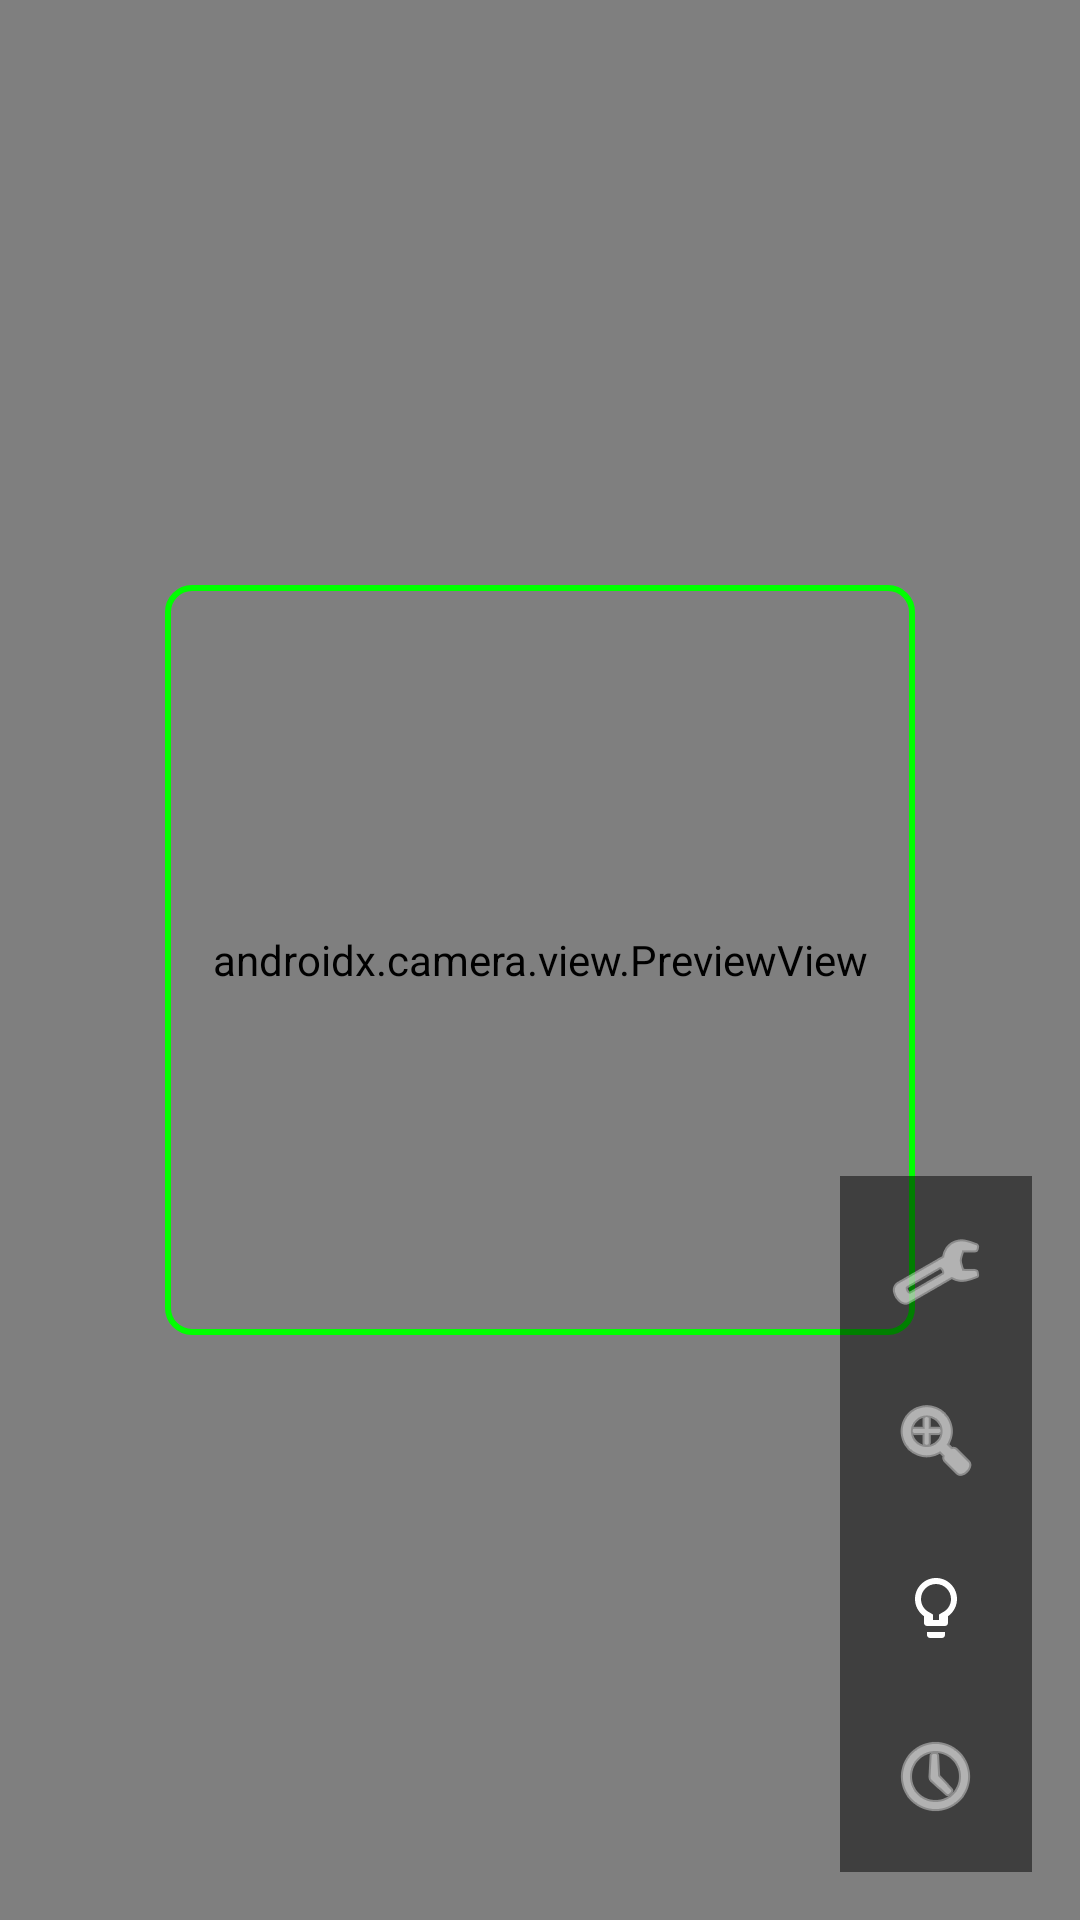

Named icons in this screenshot (1080*1920) and their bounding boxes, bbox=(x1, y1, x2, y2):
历史记录: bbox=(901, 1742, 970, 1811)
缩放: bbox=(900, 1405, 972, 1476)
闪光灯: bbox=(915, 1578, 957, 1638)
